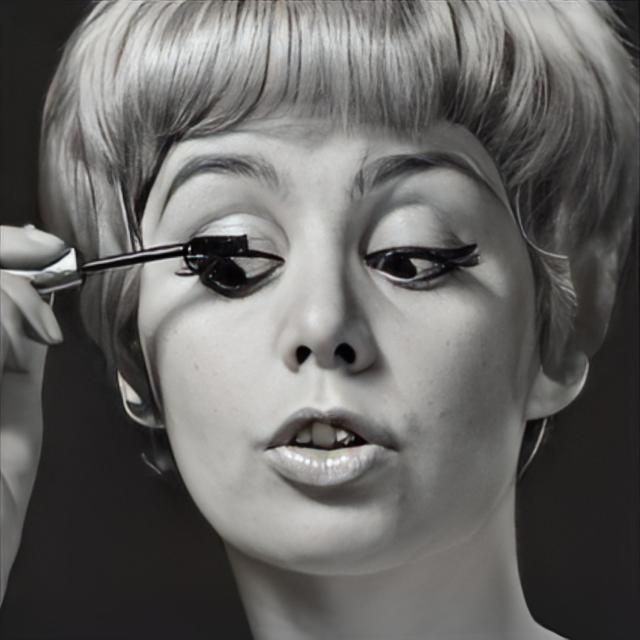surprise: (140, 40, 540, 578)
